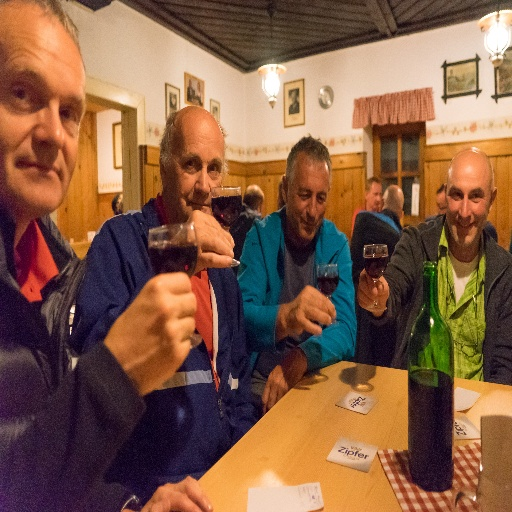hand: (102, 267, 197, 397), (171, 208, 235, 277), (258, 349, 304, 417), (285, 283, 337, 338), (140, 474, 213, 511), (354, 267, 390, 315)
